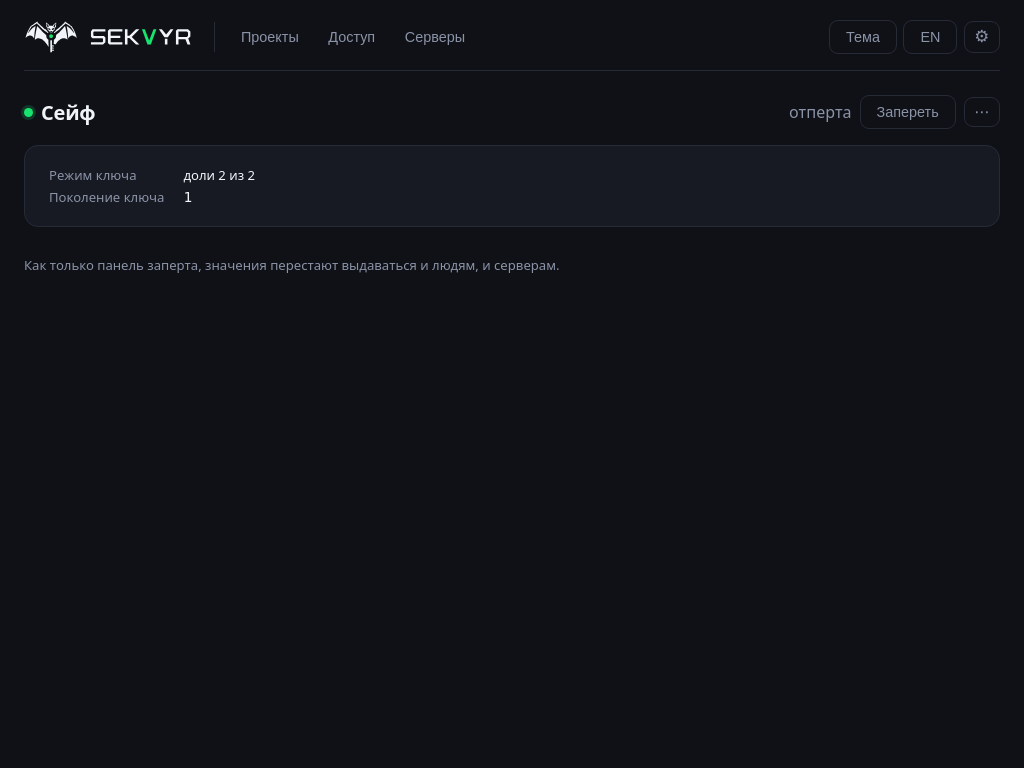
Scenario: двухшаговая смена ключа › после потери ответа повторяет тот же запрос с сохраненными долями (заперта: false)
Expected: the button "Запереть" is shown, [860,95,956,129]
Click the button named "Меню" at (982, 112), box [964,97,1000,127]
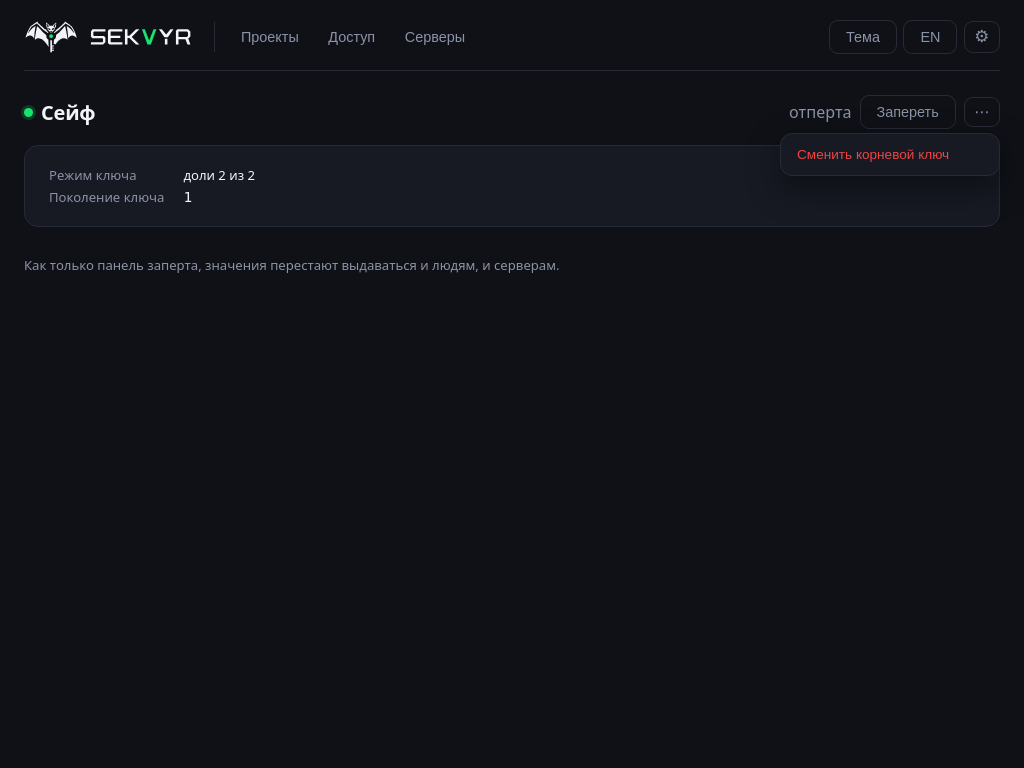
Click the button "Сменить корневой ключ" at (890, 154), box [786,139,994,170]
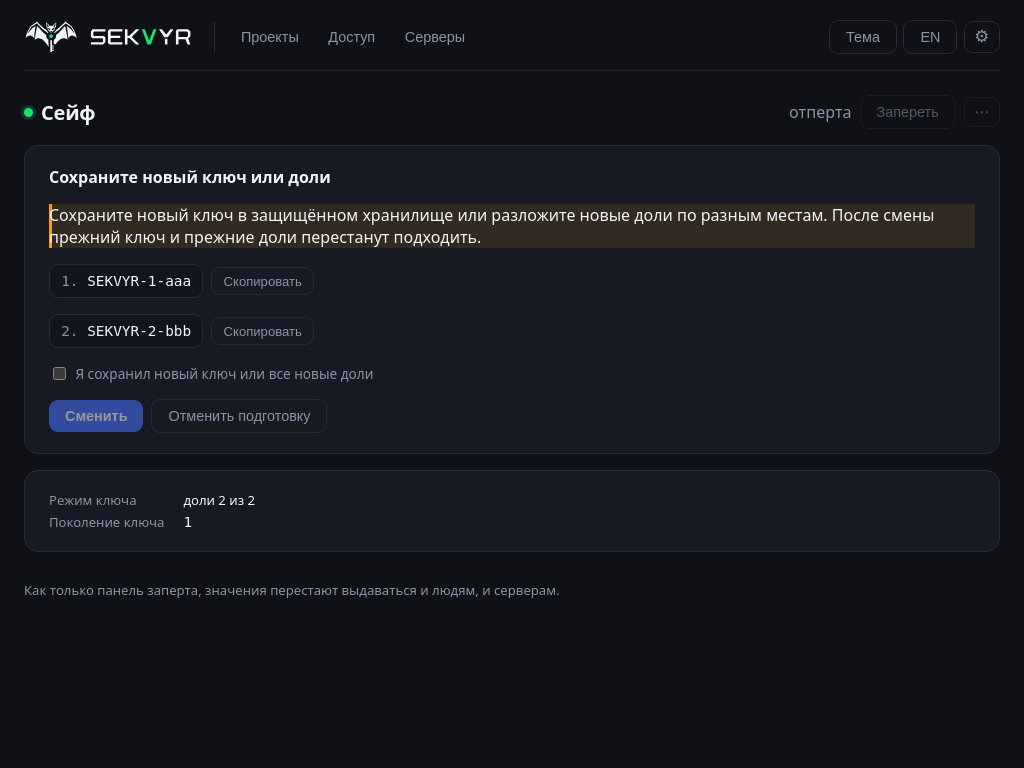
Expected: the button "Сменить" is disabled, [49,400,144,432]
Expected: the heading "Сохраните новый ключ или доли" is shown, [49,166,331,188]
Click the button with aria-label "Скопировать долю 2" at (263, 331), box [211,317,314,345]
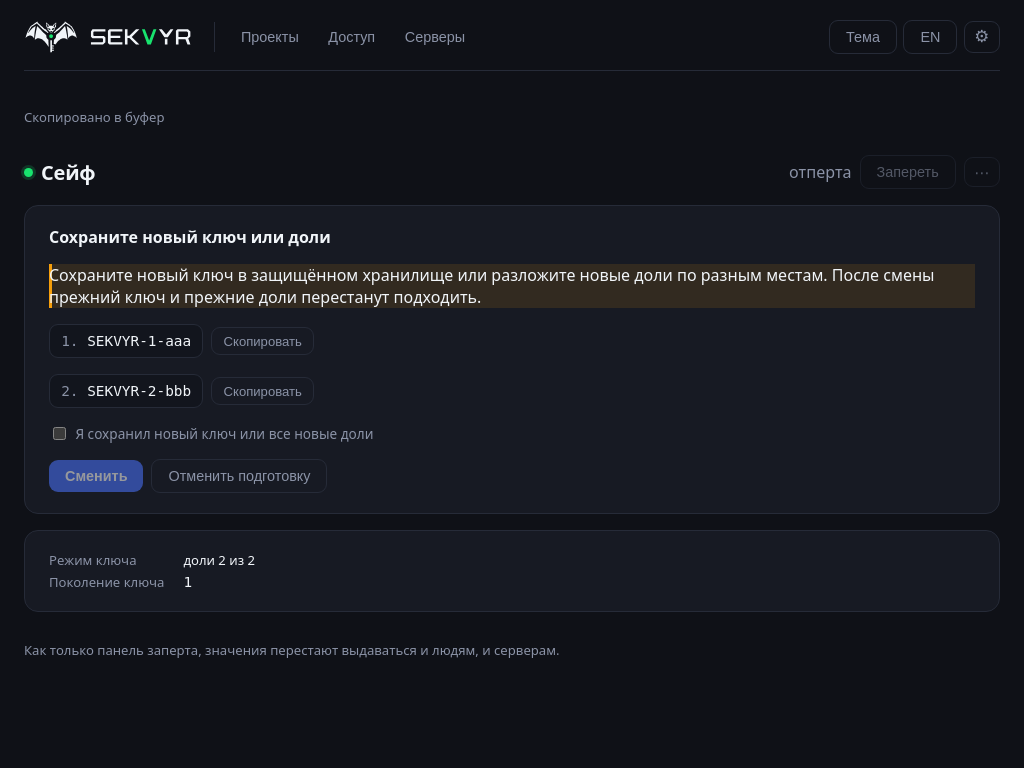
Click the checkbox labelled "Я сохранил новый ключ или все новые доли" at (60, 434), box [53,427,66,440]
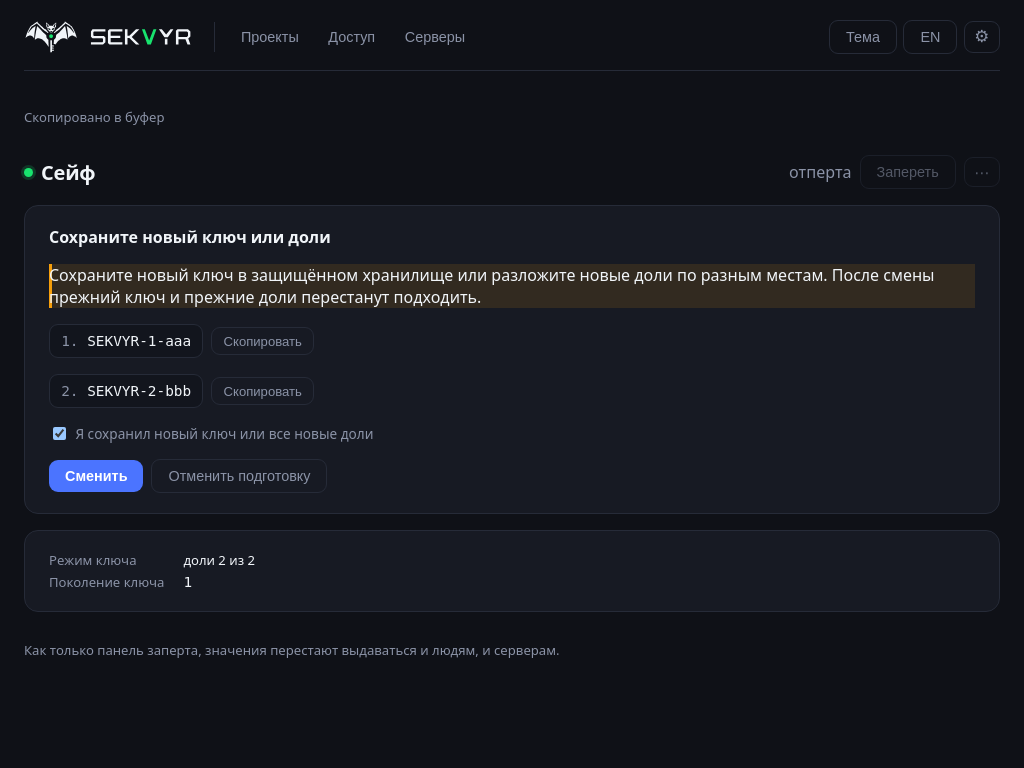
Click the button "Сменить" at (96, 476), box [49,460,144,492]
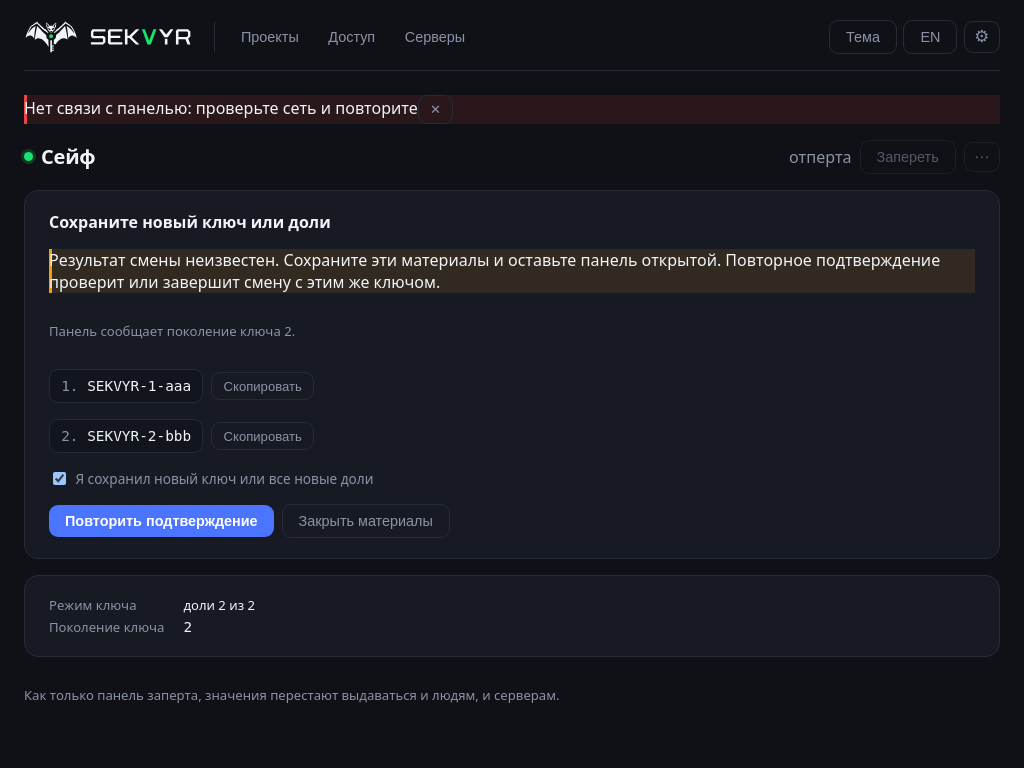
Expected: the button "Запереть" is disabled, [860,140,956,174]
Expected: the text "Результат смены неизвестен" is shown, [49,249,940,293]
Expected: the text "Панель сообщает поколение ключа 2." is shown, [49,322,295,340]
Click the button "Повторить подтверждение" at (161, 521), box [49,505,274,537]
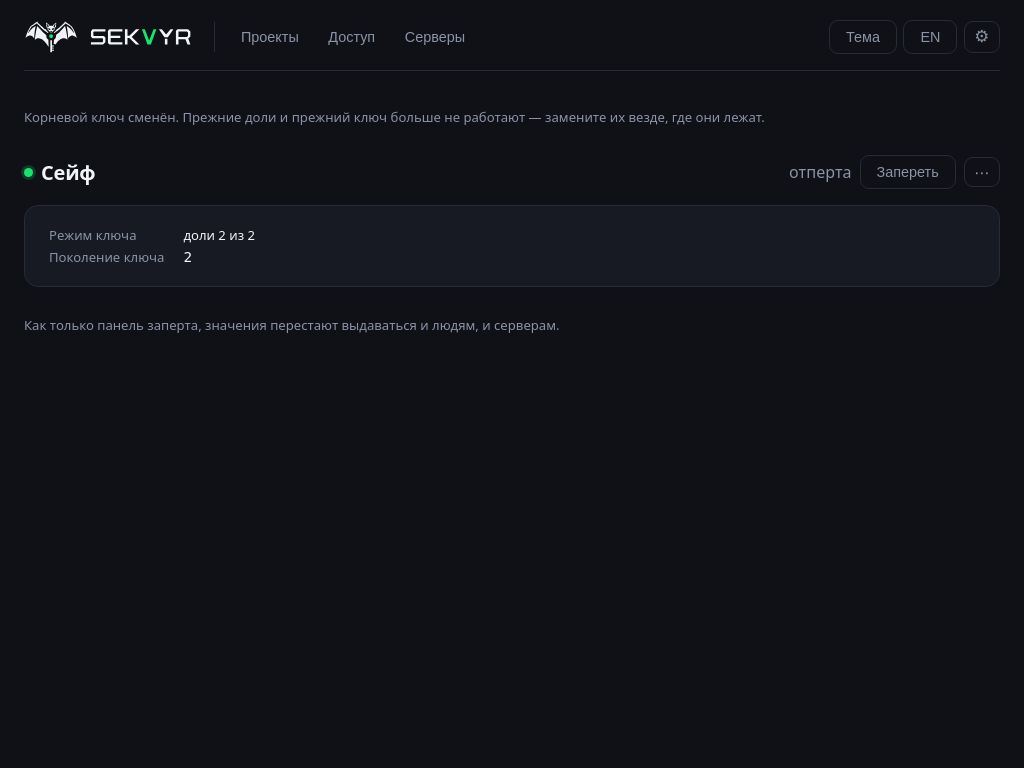
Expected: the text "Корневой ключ сменён" is shown, [24,108,765,126]
Expected: the text "SEKVYR-1-aaa" is gone
Expected: the text "SEKVYR-2-bbb" is gone
